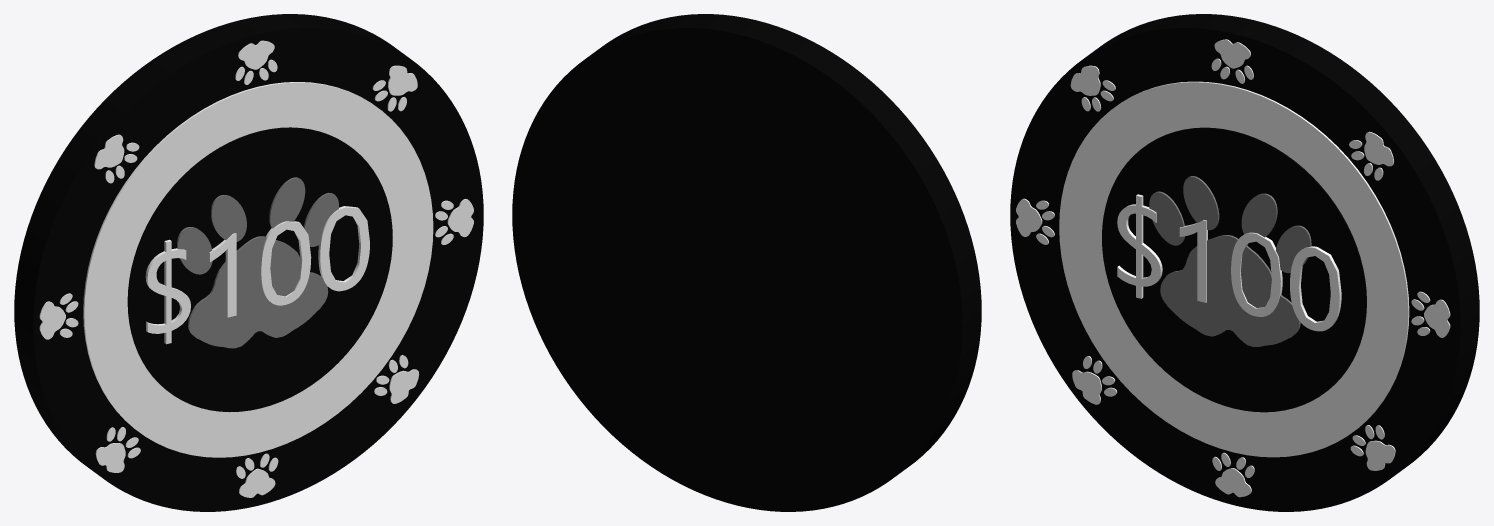
The model's file is Black paw chip.fbx.
3 views of the same model, side by side, from view 1: azimuth 30°, elevation 25°; view 2: azimuth 150°, elevation 25°; view 3: azimuth 330°, elevation 25° (orthographic).
Visible parts, largest first — view 1: root (×2), node_id4, node_id258, node_id412, node_id260, node_id215, node_id220, node_id242, node_id161, node_id192, node_id226, node_id231 (+1 smaller); view 2: node_id4; view 3: root (×2), node_id4, node_id258, node_id412, node_id260, node_id226, node_id231, node_id220, node_id215, node_id192, node_id237, node_id161 (+1 smaller).
Part boxes in pixels (x1,y1,x2,y2): root (×2): [83, 82, 433, 457]; node_id4: [14, 14, 483, 511]; node_id258: [188, 236, 328, 348]; node_id412: [145, 206, 369, 344]; node_id260: [177, 177, 338, 274]; node_id215: [94, 134, 124, 169]; node_id220: [389, 369, 419, 403]; node_id242: [39, 301, 65, 339]; node_id161: [239, 468, 275, 497]; node_id192: [238, 40, 274, 69]; node_id226: [388, 65, 417, 95]; node_id231: [95, 443, 125, 472]; node_id4: [512, 14, 981, 511]; root (×2): [1059, 81, 1409, 457]; node_id4: [1010, 14, 1479, 511]; node_id258: [1160, 235, 1300, 346]; node_id412: [1117, 194, 1341, 331]; node_id260: [1149, 176, 1311, 273]; node_id226: [1364, 131, 1394, 166]; node_id231: [1072, 370, 1101, 404]; node_id220: [1365, 440, 1395, 470]; node_id215: [1070, 65, 1100, 95]; node_id192: [1214, 39, 1250, 68]; node_id237: [1424, 299, 1450, 337]; node_id161: [1215, 468, 1251, 497].
Bounding box in the file's own units: 0.5155 × 0.5155 × 0.0448.
Materials: 22 (19 with a texture image).
